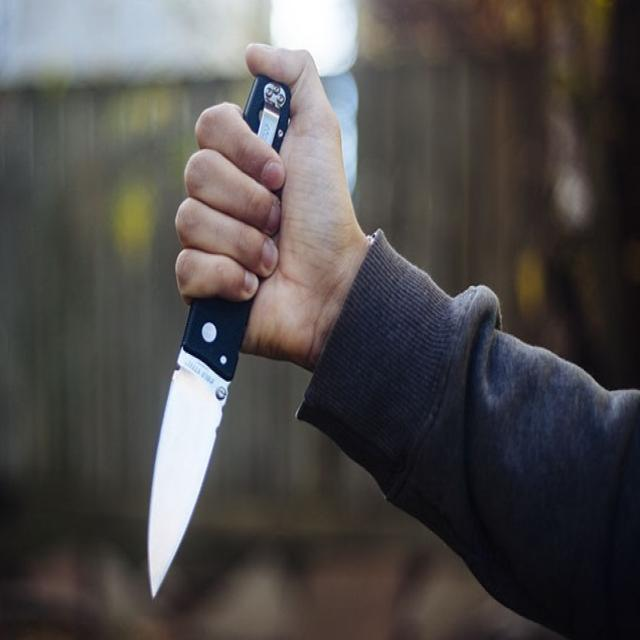knife: (149, 292, 239, 603)
